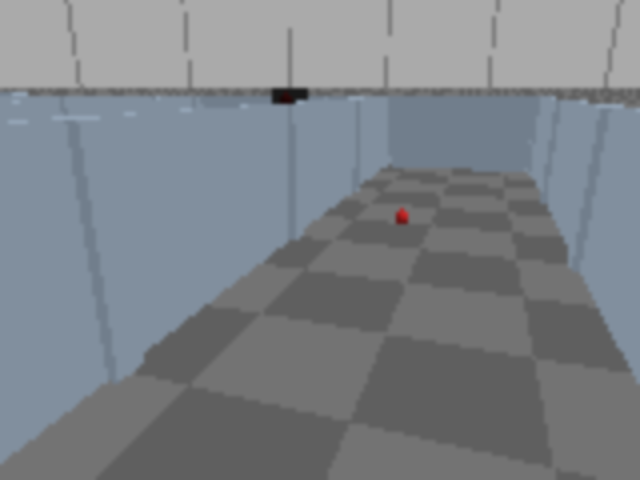puck: (392, 208, 413, 226)
